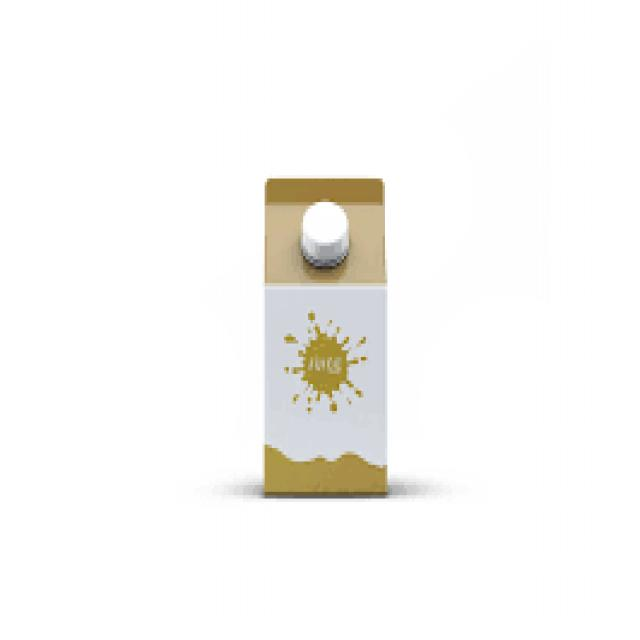non_white_jug: (262, 173, 393, 506)
